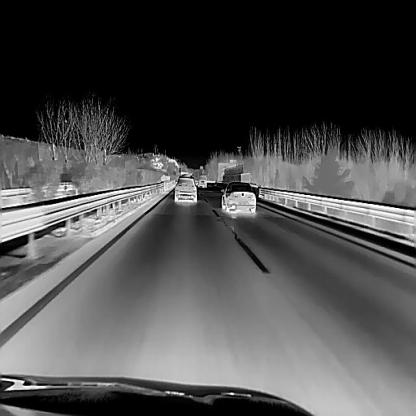car: (220, 180, 256, 214), (174, 175, 196, 202), (197, 173, 207, 187)
